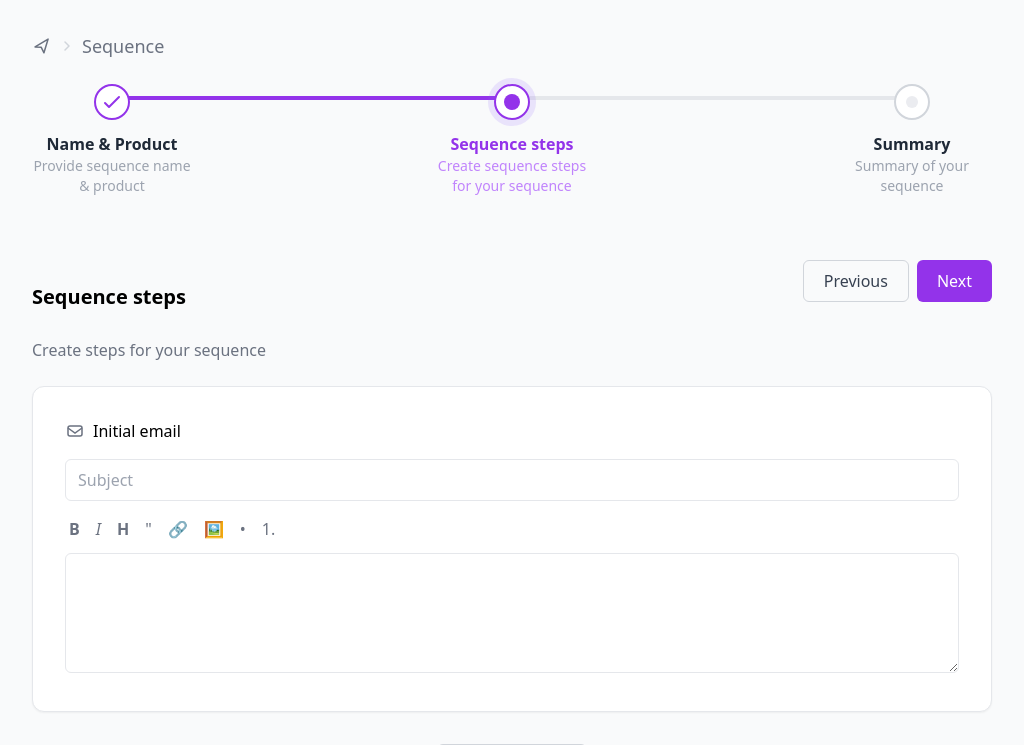
SequenceStepsPage › shows error message on failed save
This screenshot has width=1024, height=745.
Click the button "Next" at (954, 281), box left=917, top=260, right=992, bottom=302
(page scrolled)
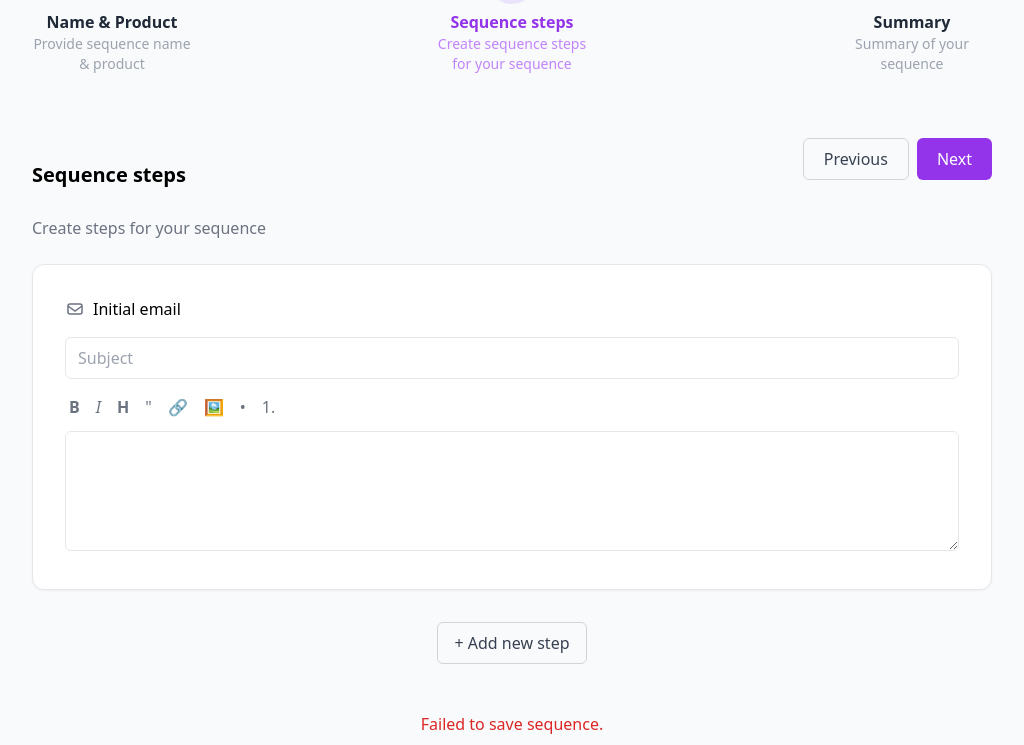
Expected: the text "Failed to save sequence." is shown, left=421, top=713, right=603, bottom=735
